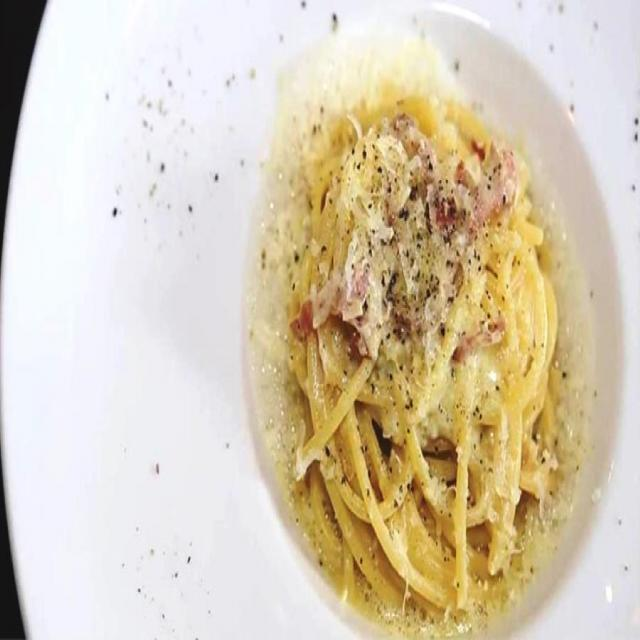Pasta with carbonara sauce: (257, 51, 607, 623)
